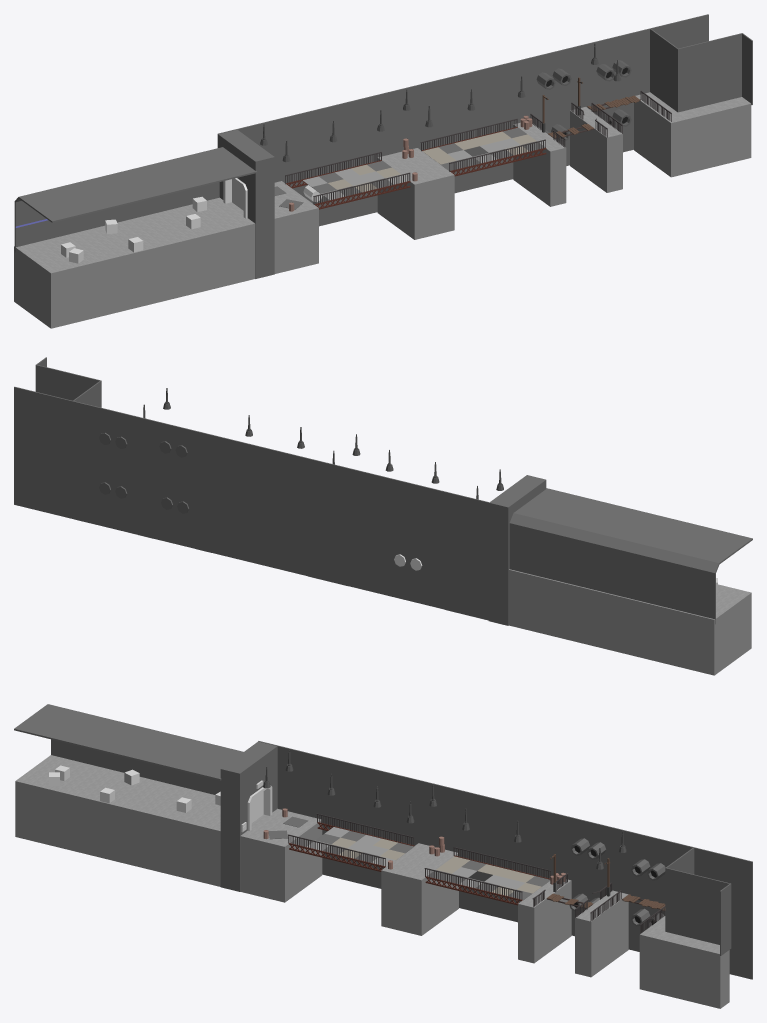
Rendered from level2_a2.fbx.
3 views of the same model, one above another, from view 1: azimuth 30°, elevation 25°; view 2: azimuth 150°, elevation 25°; view 3: azimuth 330°, elevation 25° (orthographic).
Visible parts, largest first — view 1: Plane.004, Plane.088, Plane.086, Plane, Plane.002, Plane.029, Cube.134, Plane.039, Plane.059, Cube.116; view 2: Plane.004, Plane.086, Plane.088, Cube.134, Plane.002; view 3: Plane.004, Plane.088, Plane.086, Plane, Plane.029, Plane.002, Cube.134, Plane.039, Plane.059, Cube.116, Cube.123, Cube.118.
Part boxes in pixels (box(x1,y1,x2,y2)): Plane.004: box(218, 14, 708, 226); Plane.088: box(14, 181, 318, 328); Plane.086: box(14, 147, 257, 252); Plane: box(634, 92, 751, 177); Plane.002: box(650, 29, 752, 112); Plane.029: box(377, 148, 454, 239); Cube.134: box(217, 129, 274, 278); Plane.039: box(570, 107, 622, 192); Plane.059: box(513, 122, 566, 206); Cube.116: box(313, 174, 410, 204); Plane.004: box(14, 386, 508, 624); Plane.086: box(509, 488, 752, 624); Plane.088: box(445, 569, 751, 675); Cube.134: box(488, 475, 546, 625); Plane.002: box(35, 357, 101, 407); Plane.004: box(258, 741, 752, 979); Plane.088: box(15, 755, 322, 902); Plane.086: box(14, 704, 243, 794); Plane: box(639, 916, 729, 1008); Plane.029: box(381, 843, 458, 935); Plane.002: box(665, 847, 731, 955); Cube.134: box(220, 741, 277, 891); Plane.039: box(575, 890, 628, 977); Plane.059: box(518, 879, 571, 963); Cube.116: box(288, 835, 385, 866); Cube.123: box(425, 869, 522, 899); Cube.118: box(317, 814, 414, 845).
Bounding box in the file's own units: 131200 × 12864 × 22107.
21 materials, 1 textured.
